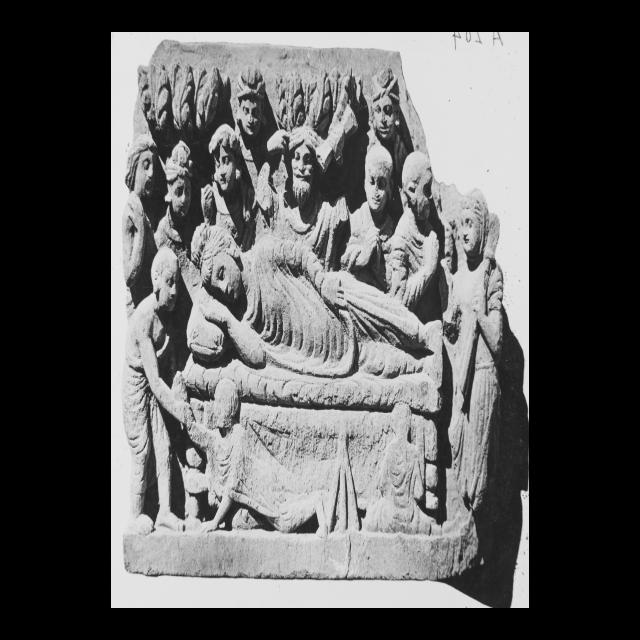buddha-sleeping: (184, 222, 442, 536)
